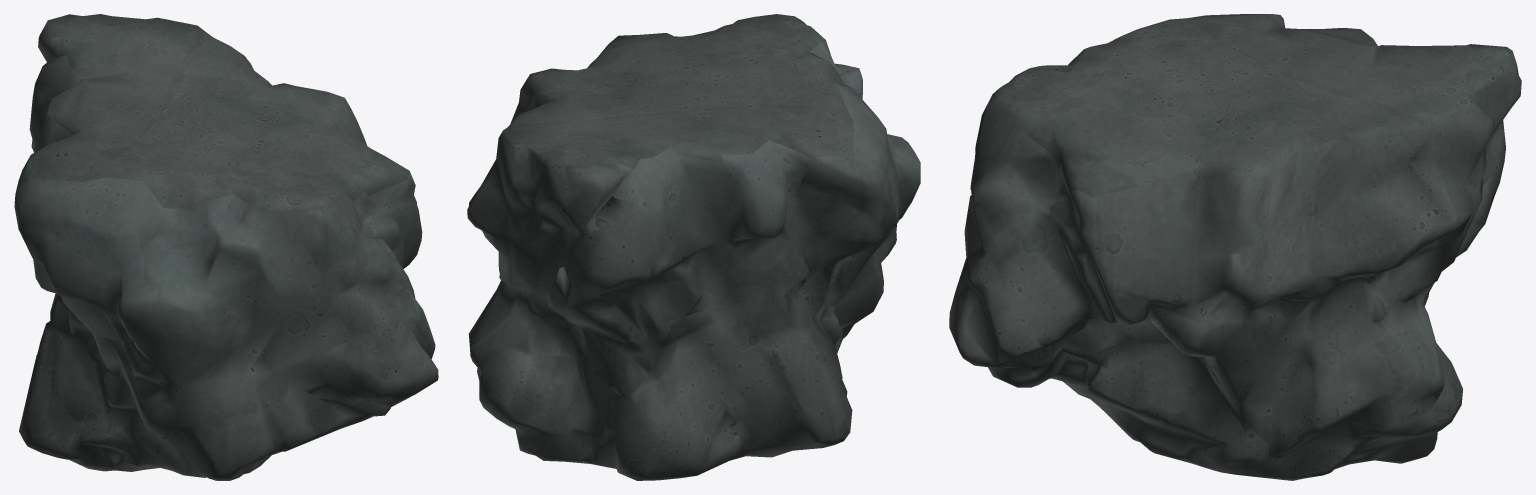
Rendered from Cliff_Rock_03.fbx.
The picture shows the model from 3 angles, left to right: view 1: azimuth 30°, elevation 25°; view 2: azimuth 150°, elevation 25°; view 3: azimuth 270°, elevation 25°; orthographic projection. The views are drawn at different scales.
Parts seen in each view (by area): view 1: SM_Cliff_Rock_03.mo; view 2: SM_Cliff_Rock_03.mo; view 3: SM_Cliff_Rock_03.mo.
Boxes of the visible parts, x1=… form: SM_Cliff_Rock_03.mo: x1=14, y1=14, x2=438, y2=480; SM_Cliff_Rock_03.mo: x1=467, y1=14, x2=920, y2=480; SM_Cliff_Rock_03.mo: x1=949, y1=14, x2=1521, y2=480.
Size of the model in its own units: 784 by 690 by 977.
